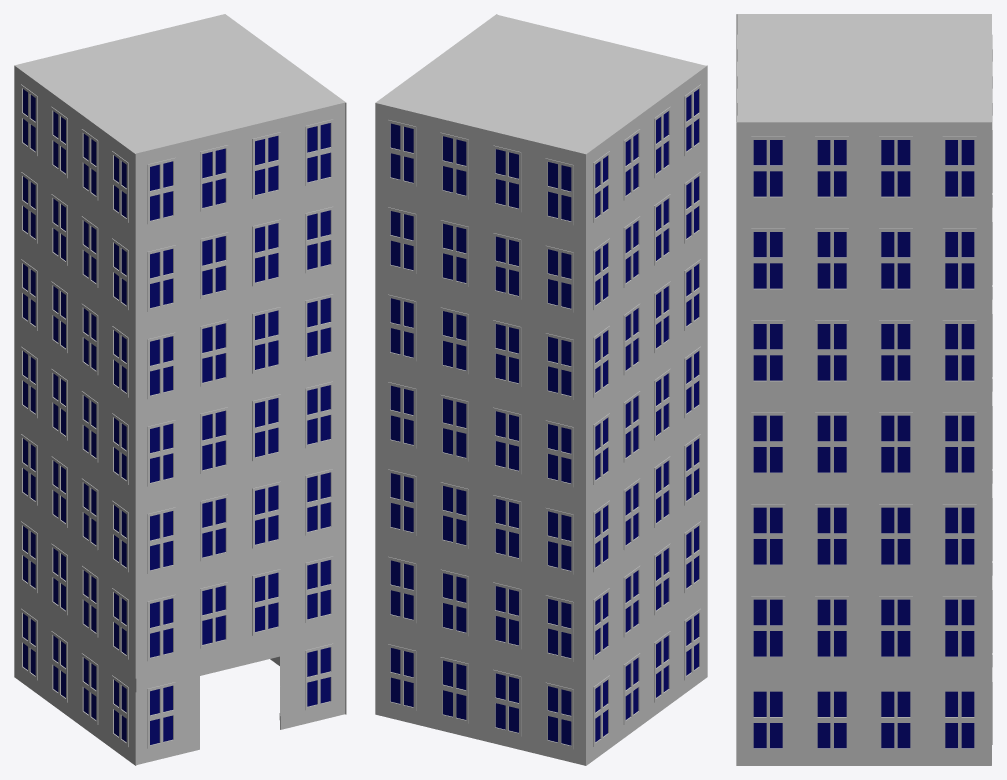
Rendered from desert_builds (1).fbx.
The picture shows the model from 3 angles, left to right: view 1: azimuth 30°, elevation 25°; view 2: azimuth 150°, elevation 25°; view 3: azimuth 270°, elevation 25°; orthographic projection. The views are drawn at different scales.
Visible parts, largest first — view 1: pencere_duvar, pencere_duvar.001; view 2: pencere_duvar, pencere_duvar.001; view 3: pencere_duvar, pencere_duvar.001.
Boxes of the visible parts, x1,y1,x2,y2 form: pencere_duvar: (14, 14, 346, 678); pencere_duvar.001: (14, 590, 346, 765); pencere_duvar: (375, 14, 707, 678); pencere_duvar.001: (375, 590, 707, 765); pencere_duvar: (736, 14, 992, 673); pencere_duvar.001: (736, 653, 992, 765).
Size of the model in its own units: 3176 by 8750 by 3157.
